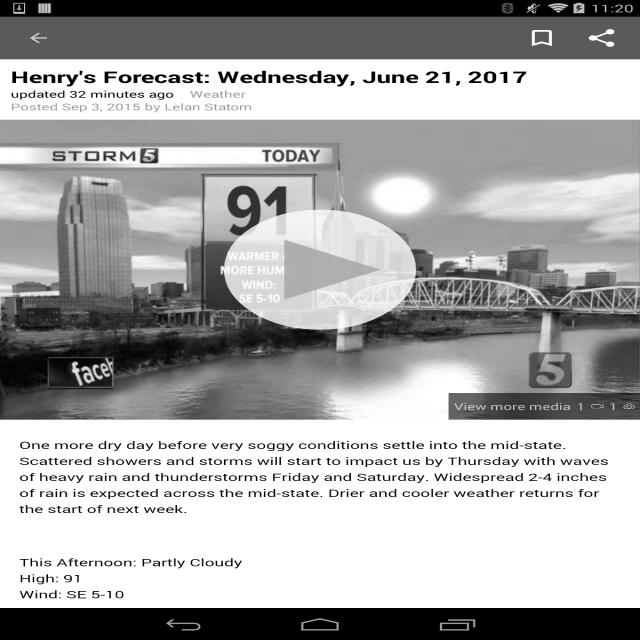ImageButton: (9, 17, 68, 59)
ImageView: (0, 120, 640, 420), (591, 396, 604, 416), (624, 396, 634, 416)
TextView: (11, 66, 629, 88), (11, 100, 629, 113), (11, 88, 174, 100), (512, 22, 572, 54), (572, 22, 631, 54), (454, 400, 571, 413), (190, 88, 246, 100), (570, 400, 592, 413), (604, 400, 623, 413)
